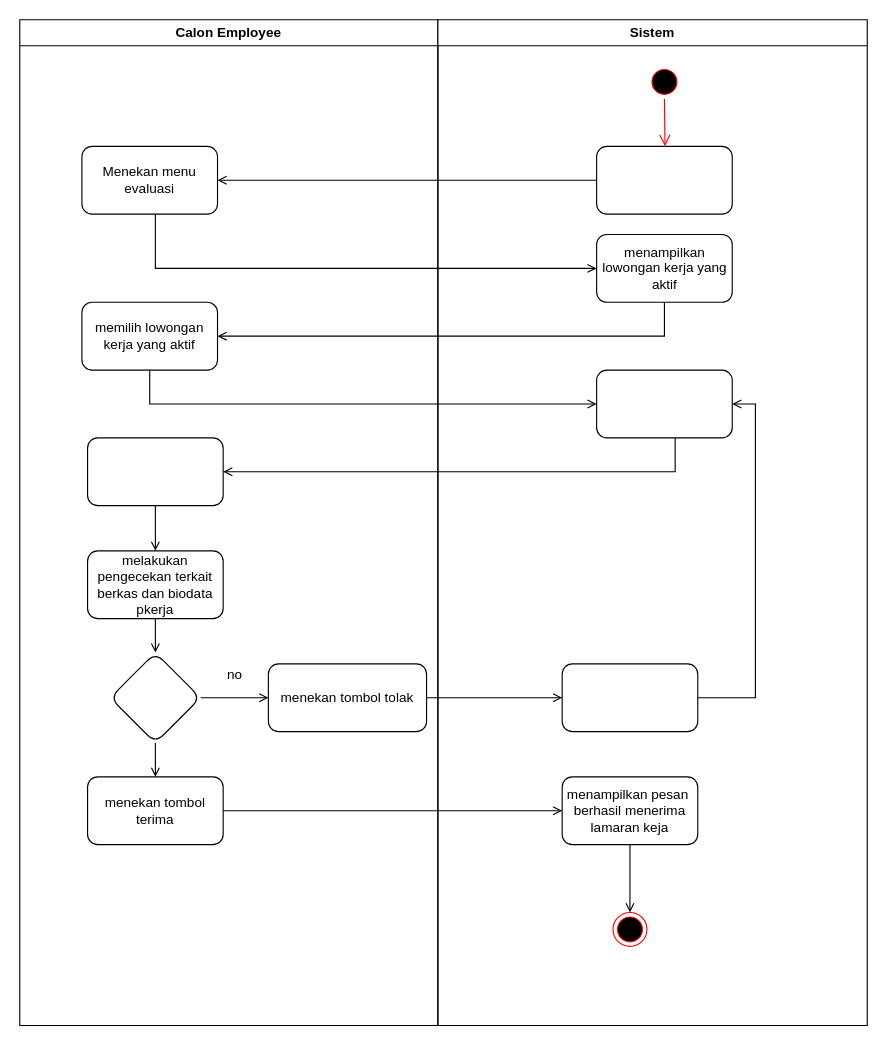
Some shapes in this 887 by 1045 pixel diagram are drawn without their labels. Here are the shapes that lost their labels. From the top down, the centre of each, then its label:
the point at 664,179: melakukan cek berkas pelamar
the point at 664,403: menampilkan list pelamar kerja
the point at 154,471: memilih lamaran pekerja
the point at 629,697: menampilkan pesan berhasil menolak lamaran keja
